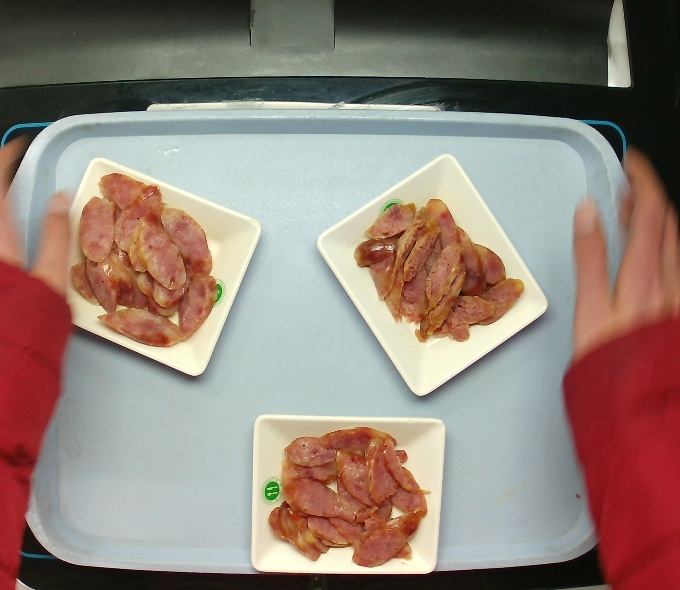wcq-QiePianXiangChang: (56, 160, 231, 353), (346, 185, 538, 343), (266, 417, 438, 575)
